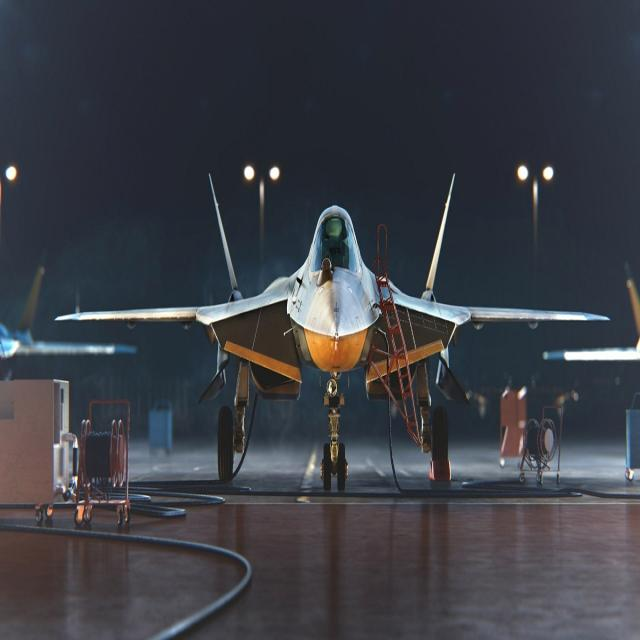MIL_Plane: (54, 172, 611, 490)
